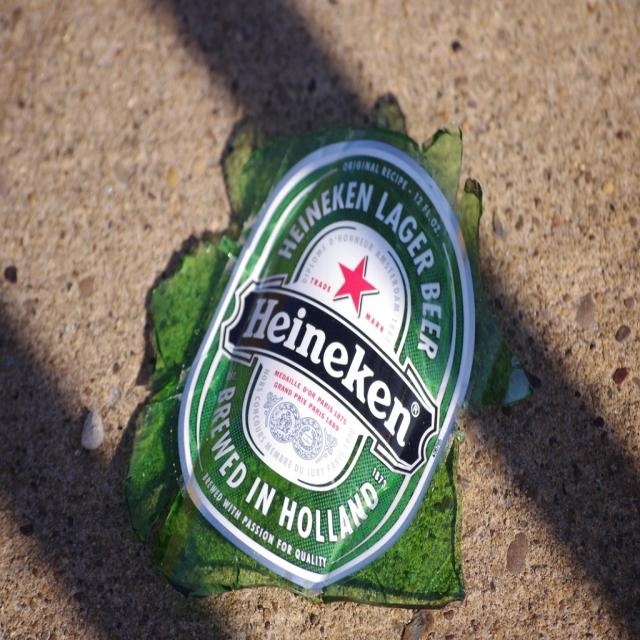heineken: (178, 140, 476, 591)
